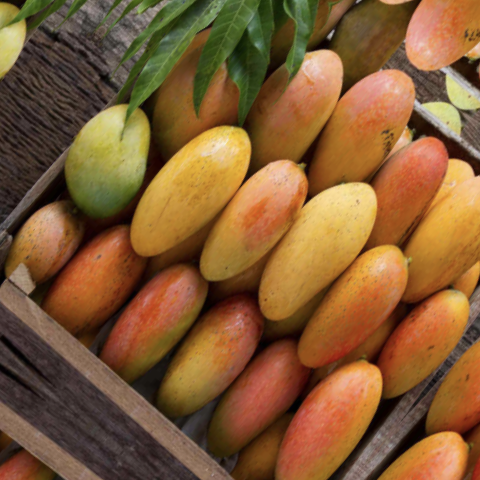mango: (220, 151, 409, 354), (103, 93, 280, 284), (71, 232, 240, 417), (278, 224, 441, 397), (273, 48, 436, 220), (244, 329, 417, 480), (180, 131, 333, 295), (355, 153, 480, 347), (26, 81, 177, 238), (189, 309, 335, 467), (344, 270, 480, 425)
